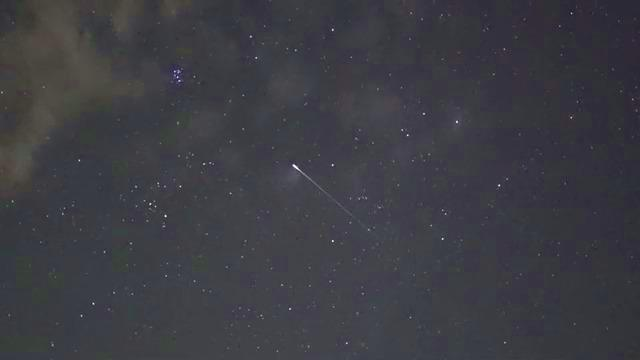meteorite: (273, 155, 376, 236)
